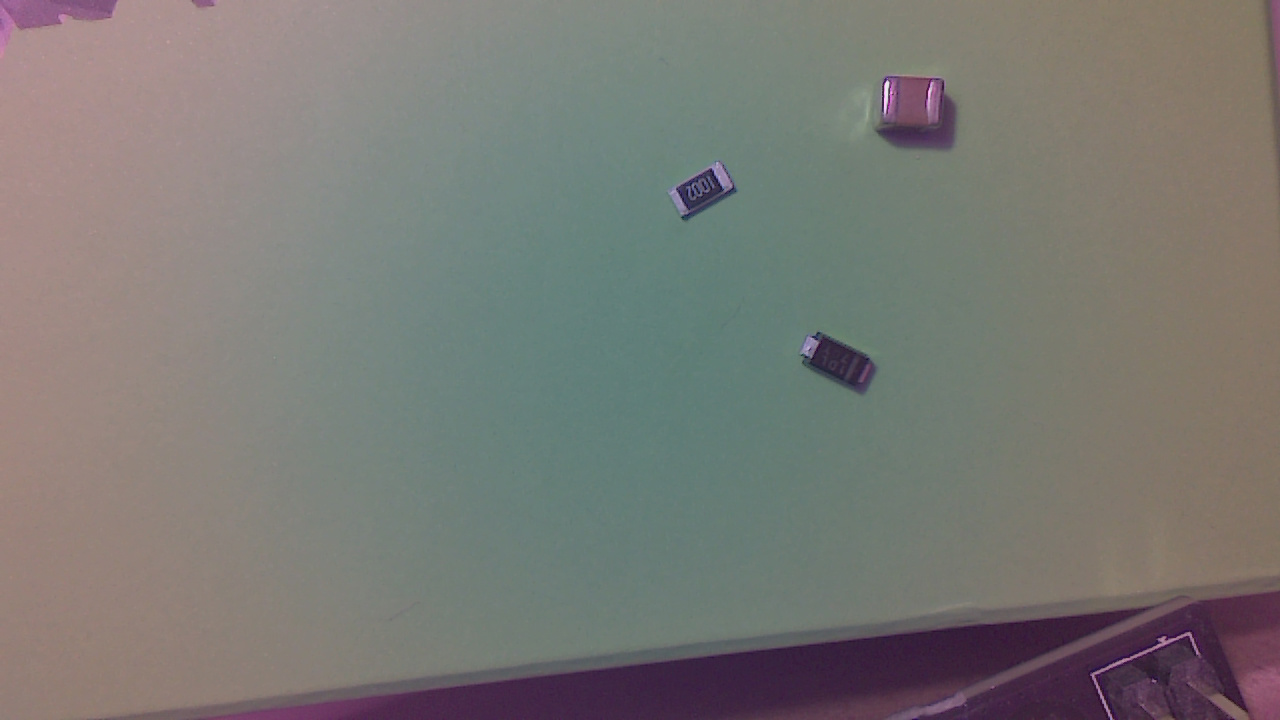Condensator: (875, 82, 949, 137)
Diode: (806, 336, 883, 396)
Resistor: (671, 168, 739, 223)
